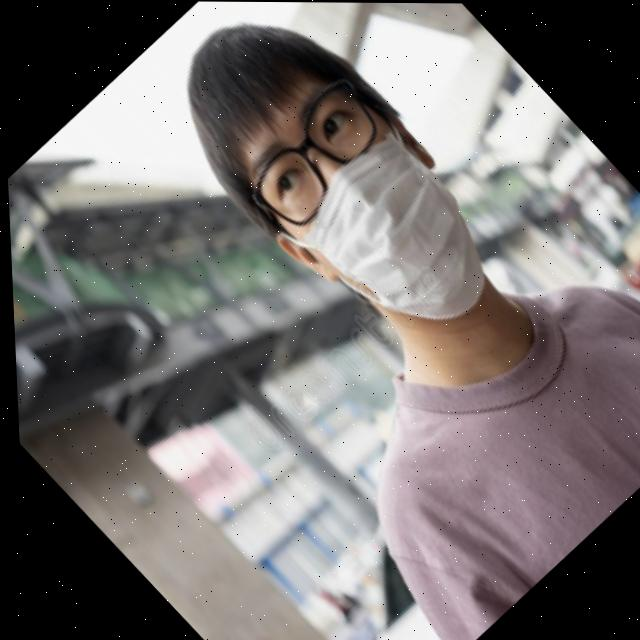Mask: (248, 102, 530, 379)
